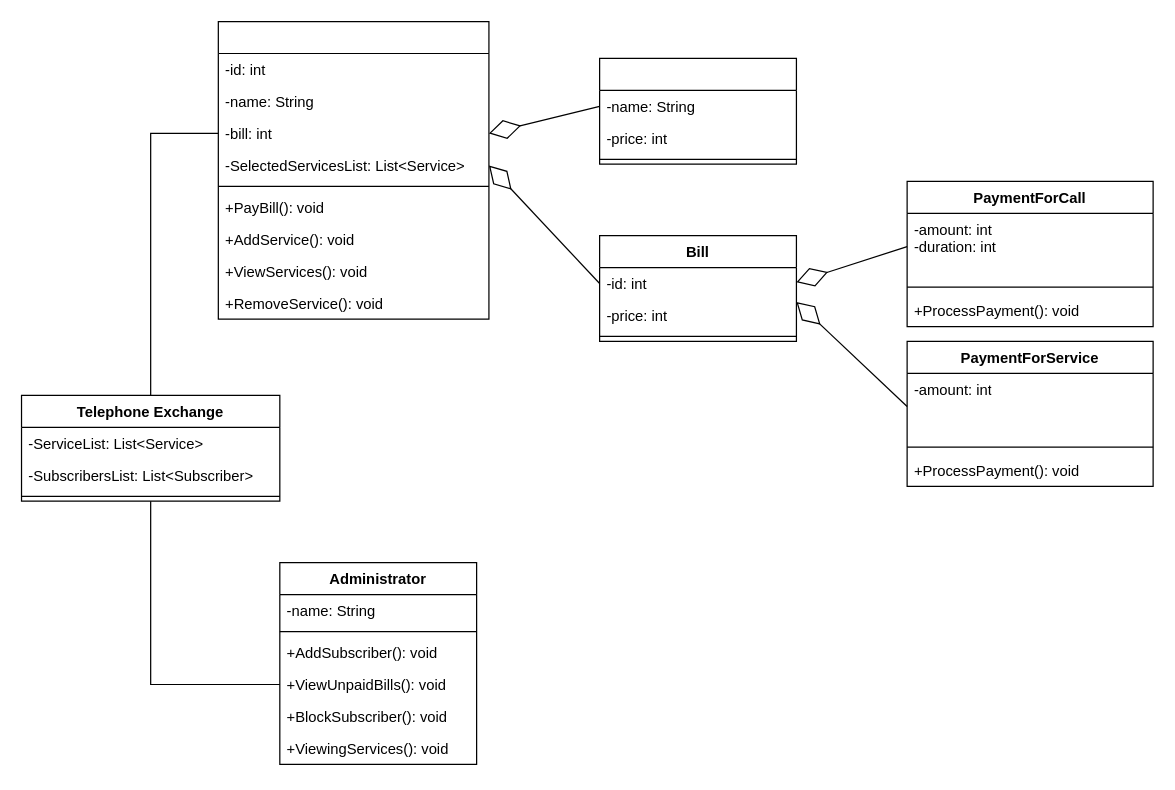
Image size: 1175x790. Some labels were removed from this diagram. Each missing label, with the box of its shape:
Service: (598, 57, 796, 164)
Subscriber: (217, 20, 489, 319)
